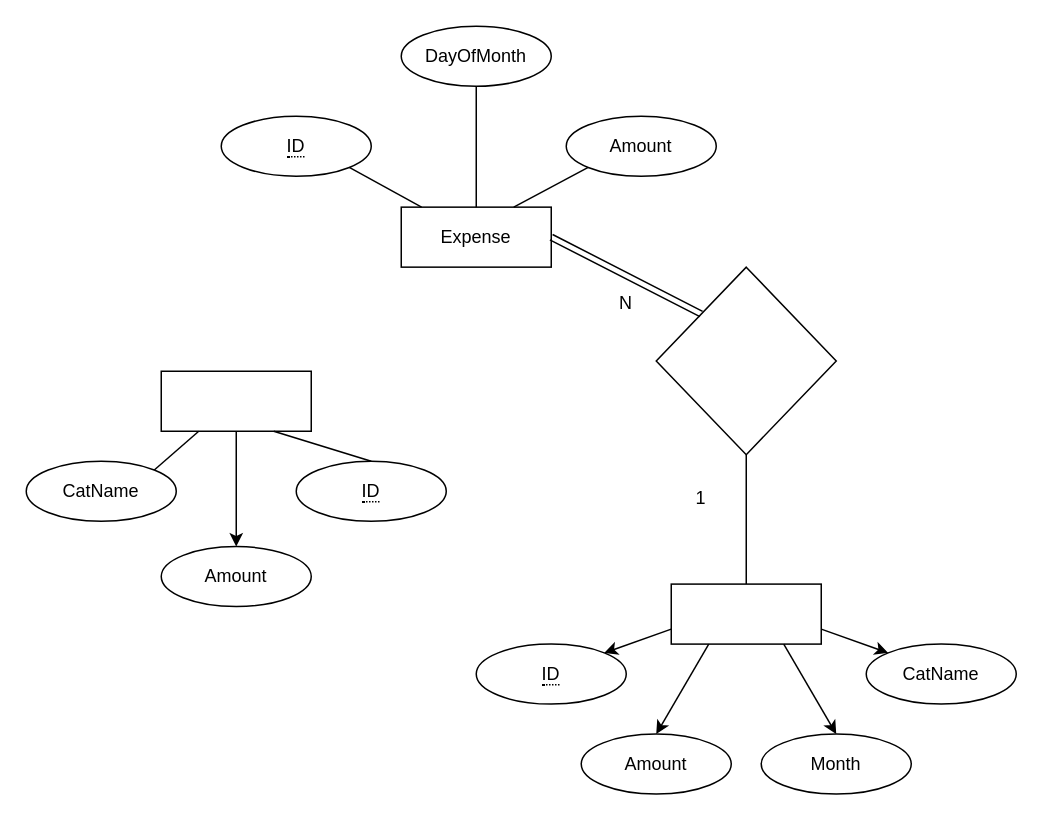
The diagram is 1043 pixels wide and 821 high, and some of its shapes have lost their labels. The centre of each missing label's shape, as x and y in pixels:
"Budget" goes at point 745,613.
"Category" goes at point 235,400.
"Is For" goes at point 745,360.
